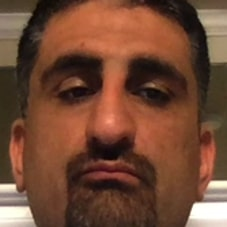drowsy: (38, 52, 189, 194)
